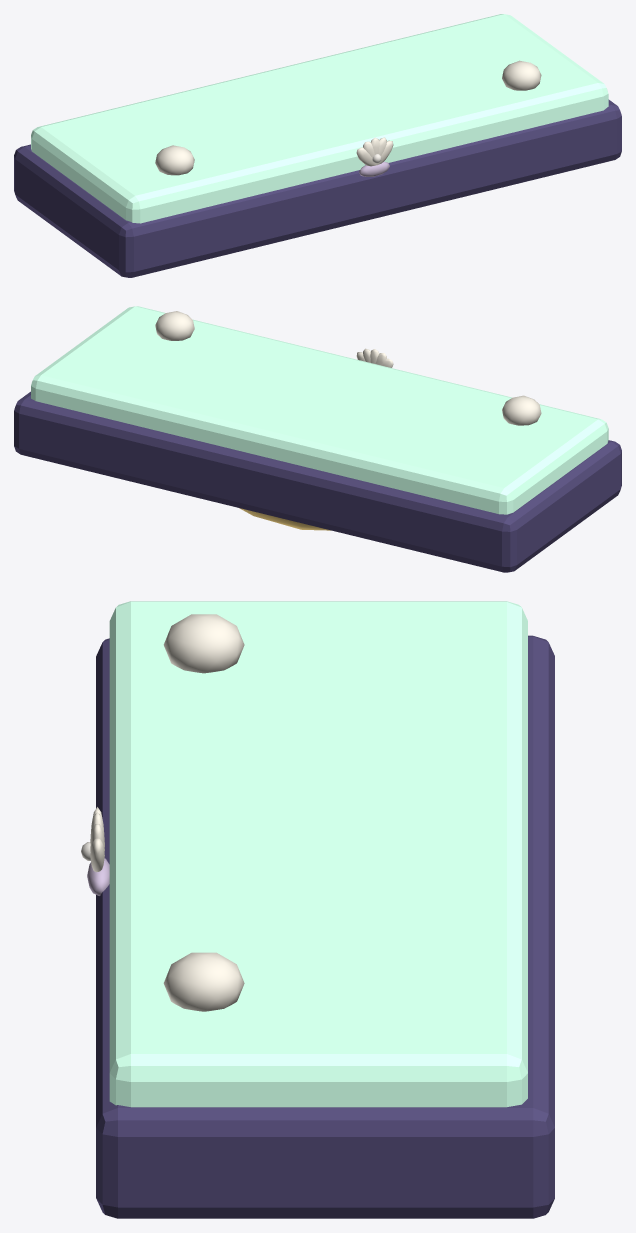
The model's file is pearl_music_bar_3.glb.
3 renders of one model, top to bottom at view 1: azimuth 30°, elevation 25°; view 2: azimuth 150°, elevation 25°; view 3: azimuth 270°, elevation 25°, orthographic. The views are drawn at different scales.
Visible parts, largest first — view 1: pearl_music_bar_3.001; view 2: pearl_music_bar_3.001; view 3: pearl_music_bar_3.001.
Boxes of the visible parts, bbox=[...] form: pearl_music_bar_3.001: bbox=[14, 14, 621, 277]; pearl_music_bar_3.001: bbox=[14, 306, 621, 572]; pearl_music_bar_3.001: bbox=[81, 601, 554, 1218].
Bounding box in the file's own units: 6.87 × 1.7 × 2.81.
